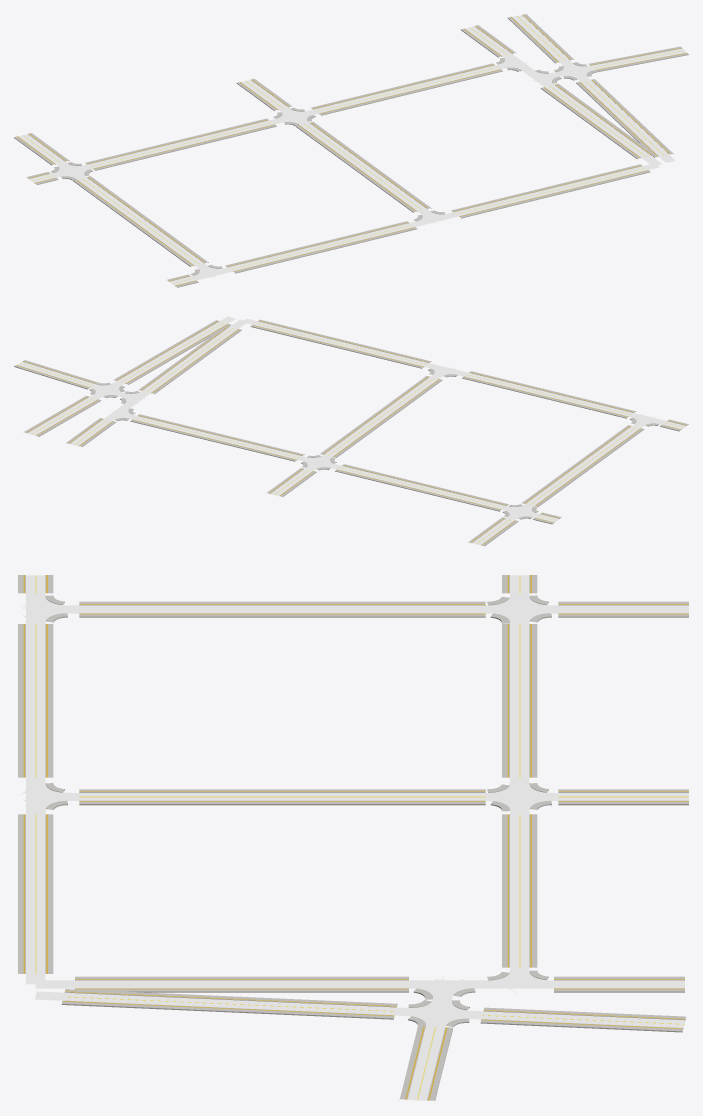
Rendered from roads_-4_3.gltf.
3 renders of one model, top to bottom at view 1: azimuth 30°, elevation 25°; view 2: azimuth 150°, elevation 25°; view 3: azimuth 270°, elevation 25°, orthographic. The views are drawn at different scales.
Visible parts, largest first — view 1: roads_-4_3_SH_wet_asphalt, roads_-4_3_SH_sidewalk, roads_-4_3_Road_Tactile_Strip, roads_-4_3_SH_kerb, roads_-4_3_SH_road_marking_white, roads_-4_3_SH_road_marking_yellow; view 2: roads_-4_3_SH_wet_asphalt, roads_-4_3_SH_sidewalk, roads_-4_3_Road_Tactile_Strip, roads_-4_3_SH_kerb, roads_-4_3_SH_road_marking_yellow, roads_-4_3_SH_road_marking_white; view 3: roads_-4_3_SH_wet_asphalt, roads_-4_3_SH_sidewalk, roads_-4_3_Road_Tactile_Strip, roads_-4_3_SH_kerb, roads_-4_3_SH_road_marking_white, roads_-4_3_SH_road_marking_yellow.
Boxes of the visible parts, x1,y1,x2,y2 form: roads_-4_3_SH_wet_asphalt: (19, 15, 686, 285); roads_-4_3_SH_sidewalk: (14, 14, 688, 287); roads_-4_3_Road_Tactile_Strip: (17, 14, 687, 285); roads_-4_3_SH_kerb: (18, 14, 686, 285); roads_-4_3_SH_road_marking_white: (18, 16, 681, 281); roads_-4_3_SH_road_marking_yellow: (23, 16, 680, 283); roads_-4_3_SH_wet_asphalt: (17, 316, 686, 545); roads_-4_3_SH_sidewalk: (14, 319, 688, 546); roads_-4_3_Road_Tactile_Strip: (16, 320, 686, 545); roads_-4_3_SH_kerb: (19, 321, 686, 545); roads_-4_3_SH_road_marking_yellow: (20, 322, 682, 543); roads_-4_3_SH_road_marking_white: (28, 321, 680, 544); roads_-4_3_SH_wet_asphalt: (26, 575, 688, 1100); roads_-4_3_SH_sidewalk: (18, 575, 688, 1100); roads_-4_3_Road_Tactile_Strip: (23, 575, 688, 1100); roads_-4_3_SH_kerb: (25, 575, 688, 1100); roads_-4_3_SH_road_marking_white: (14, 575, 688, 1100); roads_-4_3_SH_road_marking_yellow: (35, 575, 688, 1100).
Size of what is drawn, in the model's own units: 514 by 0.506 by 279.
